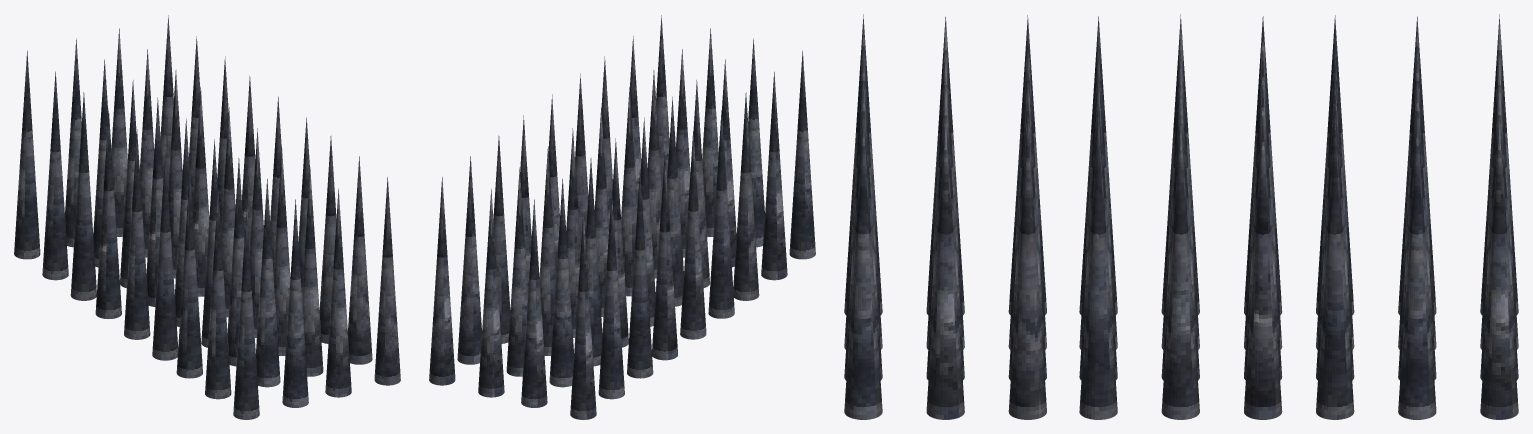
The model's file is Nidle.gltf.
3 views of the same model, side by side, from view 1: azimuth 30°, elevation 25°; view 2: azimuth 150°, elevation 25°; view 3: azimuth 270°, elevation 25° (orthographic). The views are drawn at different scales.
Parts seen in each view (by area): view 1: 円錐; view 2: 円錐; view 3: 円錐.
Part boxes in pixels (<box>): 円錐: <box>14,15,400,419</box>; 円錐: <box>429,15,815,419</box>; 円錐: <box>844,14,1518,419</box>.
Size of the model in its own units: 1.67 by 2 by 4.1.
Materials: 1 (1 with a texture image).
